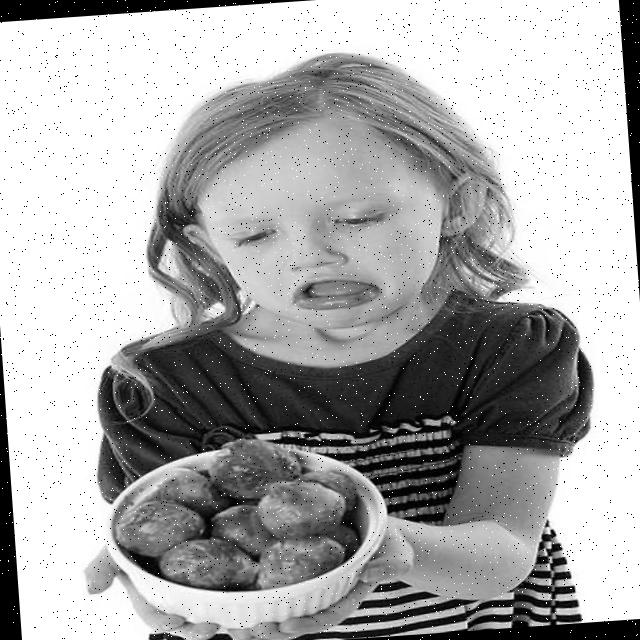Disgust: (196, 117, 449, 338)
